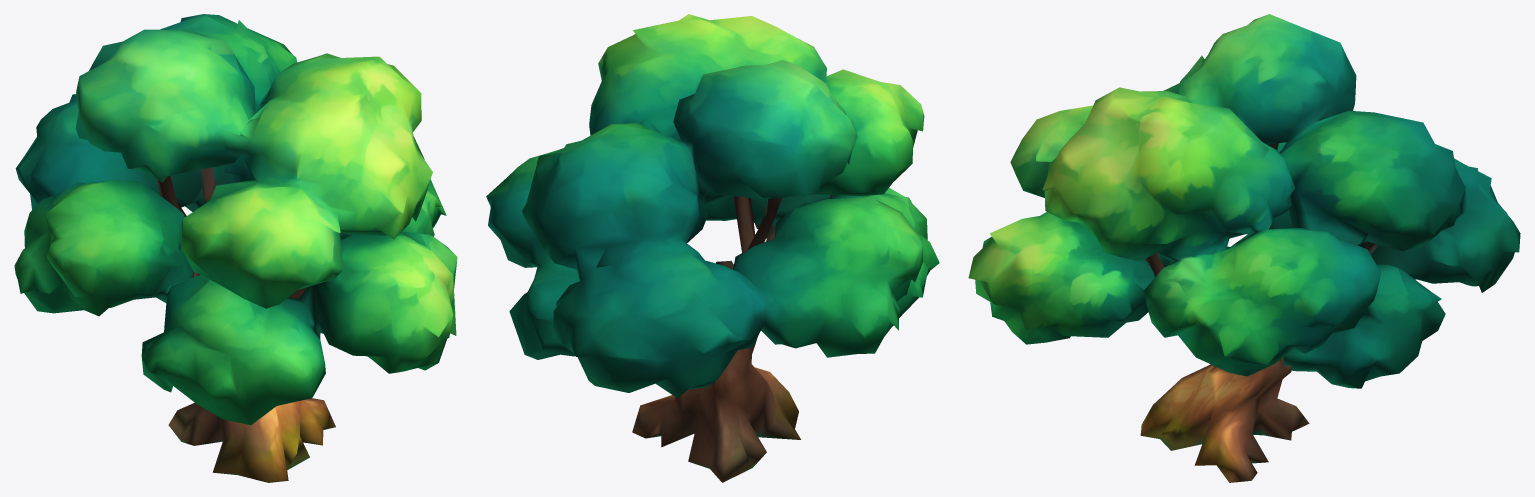
The model's file is model_raw.glb.
3 renders of one model, left to right at view 1: azimuth 30°, elevation 25°; view 2: azimuth 150°, elevation 25°; view 3: azimuth 270°, elevation 25°, orthographic. The views are drawn at different scales.
Parts seen in each view (by area): view 1: tripo_node_4488b39a-8629-4127-83fc-2ad172fa7bd4; view 2: tripo_node_4488b39a-8629-4127-83fc-2ad172fa7bd4; view 3: tripo_node_4488b39a-8629-4127-83fc-2ad172fa7bd4.
Part boxes in pixels (left/top/right/bottom): tripo_node_4488b39a-8629-4127-83fc-2ad172fa7bd4: left=14, top=14, right=457, bottom=482; tripo_node_4488b39a-8629-4127-83fc-2ad172fa7bd4: left=486, top=14, right=939, bottom=482; tripo_node_4488b39a-8629-4127-83fc-2ad172fa7bd4: left=968, top=14, right=1520, bottom=482.
Size of the model in its own units: 0.789 by 0.7701 by 1.
Materials: 1 (1 with a texture image).
